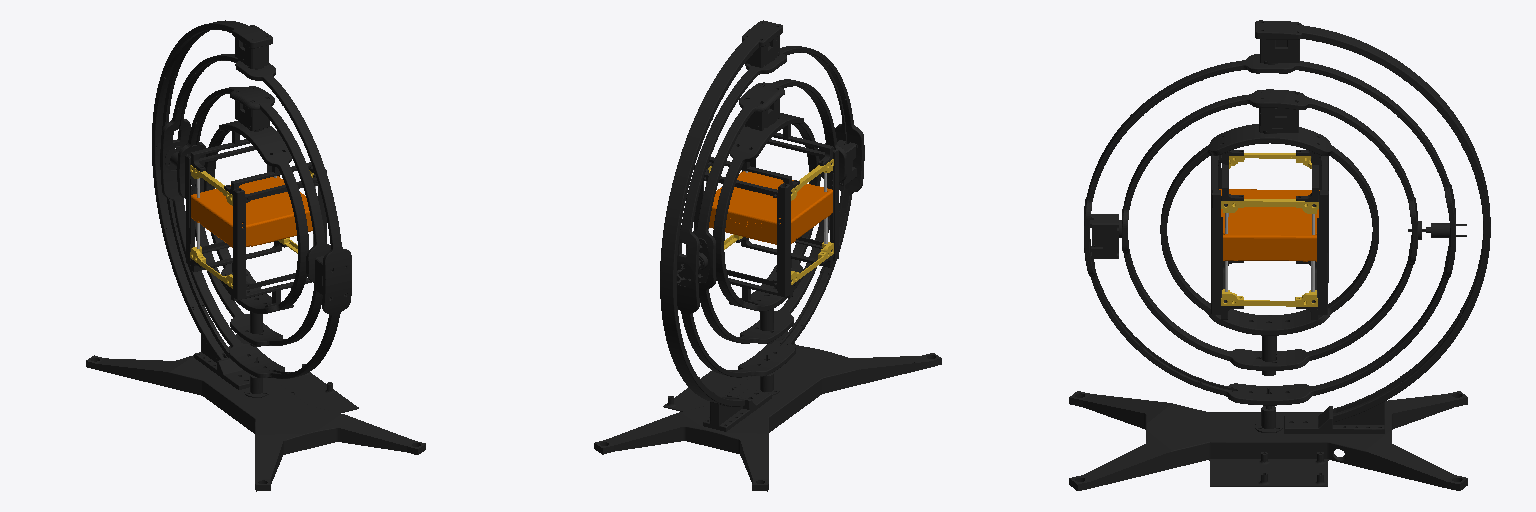
--- Render facts (derived) ---
Views: 3 orthographic renders of the robot side by side, from view 1: azimuth 30°, elevation 25°; view 2: azimuth 150°, elevation 25°; view 3: azimuth 270°, elevation 25°.
Robot: testing_rig — 45 links, 44 joints (3 continuous, 41 fixed); root link base_link; default pose: every joint at zero.
Visible links, largest first — view 1: base_link, ThirdRingFinal_Copy_v2_1, SupportRing_Copy_v1_1, SecondRingFinal_Copy_v2_1, FirstRingFinal_Copy_v2_1, Beacon_bottom_v1_1, 1U_Cubesat_Side_Frame_1_v1_1, 1U_Cubesat_Side_Frame_2_v1_1, CubeSat1UMountingBracket_v1_2, CubeSat1UMountingBracket_v1_1, tip_v1_4_1; view 2: base_link, ThirdRingFinal_Copy_v2_1, SupportRing_Copy_v1_1, SecondRingFinal_Copy_v2_1, Beacon_bottom_v1_1, FirstRingFinal_Copy_v2_1, 1U_Cubesat_Side_Frame_2_v1_1, 1U_Cubesat_Side_Frame_1_v1_1, CubeSat1UMountingBracket_v1_2, CubeSat1UMountingBracket_v1_1, tip_v1_1; view 3: base_link, ThirdRingFinal_Copy_v2_1, SupportRing_Copy_v1_1, SecondRingFinal_Copy_v2_1, FirstRingFinal_Copy_v2_1, Beacon_bottom_v1_1, 1U_Cubesat_Side_Frame_1_v1_1, 1U_Cubesat_Side_Frame_2_v1_1, CubeSat1UMountingBracket_v1_2, 1U_Cubesat_Rib_2_v1_4, 1U_Cubesat_Rib_2_v1_3, motor2_v1__1__1 (+8 smaller).
Link boxes in pixels (x1,y1,x2,y2): base_link: (111,334,400,473); ThirdRingFinal_Copy_v2_1: (160,54,351,378); SupportRing_Copy_v1_1: (152,20,272,389); SecondRingFinal_Copy_v2_1: (177,86,330,345); FirstRingFinal_Copy_v2_1: (204,121,308,313); Beacon_bottom_v1_1: (191,176,312,247); 1U_Cubesat_Side_Frame_1_v1_1: (232,170,326,299); 1U_Cubesat_Side_Frame_2_v1_1: (185,146,279,264); CubeSat1UMountingBracket_v1_2: (191,131,314,194); CubeSat1UMountingBracket_v1_1: (191,241,311,300); tip_v1_4_1: (381,436,425,454); base_link: (620,330,915,471); ThirdRingFinal_Copy_v2_1: (677,46,864,377); SupportRing_Copy_v1_1: (660,20,782,431); SecondRingFinal_Copy_v2_1: (686,79,846,343); Beacon_bottom_v1_1: (709,171,832,244); FirstRingFinal_Copy_v2_1: (713,113,820,311); 1U_Cubesat_Side_Frame_2_v1_1: (694,165,791,296); 1U_Cubesat_Side_Frame_1_v1_1: (742,139,838,260); CubeSat1UMountingBracket_v1_2: (707,125,832,189); CubeSat1UMountingBracket_v1_1: (716,237,833,298); tip_v1_1: (594,435,640,454); base_link: (1106,396,1430,486); ThirdRingFinal_Copy_v2_1: (1084,54,1455,405); SupportRing_Copy_v1_1: (1255,20,1490,433); SecondRingFinal_Copy_v2_1: (1122,89,1417,370); FirstRingFinal_Copy_v2_1: (1160,124,1378,335); Beacon_bottom_v1_1: (1219,189,1319,261); 1U_Cubesat_Side_Frame_1_v1_1: (1211,155,1227,314); 1U_Cubesat_Side_Frame_2_v1_1: (1311,155,1328,314); CubeSat1UMountingBracket_v1_2: (1221,150,1318,201); 1U_Cubesat_Rib_2_v1_4: (1221,289,1317,306); 1U_Cubesat_Rib_2_v1_3: (1221,199,1318,213); motor2_v1__1__1: (1097,214,1113,258).
Bounding box of the posed robot: 0.1887 × 0.3582 × 0.3929 m (x, y, z).
Meshes: 45 distinct files referenced, 45 mesh visuals loaded (45 binary STL).

robot.urdf — testing_rig:
<?xml version="1.0" ?>
<!-- =================================================================================== -->
<!-- |    This document was autogenerated by xacro from [local-path]/ANT61/ANT61_ws/src/testing_rig/testing_rig_description/urdf/testing_rig.xacro | -->
<!-- |    EDITING THIS FILE BY HAND IS NOT RECOMMENDED                                 | -->
<!-- =================================================================================== -->
<robot name="testing_rig">
    <material name="silver">
        <color rgba="0.700 0.700 0.700 1.000" />
    </material>
    <material name="gold">
        <color rgba="0.831 0.686 0.216 1.000" />
    </material>
    <material name="black">
        <color rgba="0.18 0.18 0.18 1.000" />
    </material>
    <material name="orange">
        <color rgba="0.80 0.40 0.00 1.000" />
    </material>
    <transmission name="outer_ring_tran">
        <type>transmission_interface/SimpleTransmission</type>
        <joint name="outer_ring">
            <hardwareInterface>hardware_interface/EffortJointInterface</hardwareInterface>
        </joint>
        <actuator name="outer_ring_actr">
            <hardwareInterface>hardware_interface/EffortJointInterface</hardwareInterface>
            <mechanicalReduction>1</mechanicalReduction>
        </actuator>
    </transmission>
    <transmission name="middle_ring_tran">
        <type>transmission_interface/SimpleTransmission</type>
        <joint name="middle_ring">
            <hardwareInterface>hardware_interface/EffortJointInterface</hardwareInterface>
        </joint>
        <actuator name="middle_ring_actr">
            <hardwareInterface>hardware_interface/EffortJointInterface</hardwareInterface>
            <mechanicalReduction>1</mechanicalReduction>
        </actuator>
    </transmission>
    <transmission name="inner_ring_tran">
        <type>transmission_interface/SimpleTransmission</type>
        <joint name="inner_ring">
            <hardwareInterface>hardware_interface/EffortJointInterface</hardwareInterface>
        </joint>
        <actuator name="inner_ring_actr">
            <hardwareInterface>hardware_interface/EffortJointInterface</hardwareInterface>
            <mechanicalReduction>1</mechanicalReduction>
        </actuator>
    </transmission>
    <!-- <transmission name="Beacon_tran">
        <type>transmission_interface/SimpleTransmission</type>
        <joint name="Beacon">
            <hardwareInterface>hardware_interface/EffortJointInterface</hardwareInterface>
        </joint>
        <actuator name="Beacon_actr">
            <hardwareInterface>hardware_interface/EffortJointInterface</hardwareInterface>
            <mechanicalReduction>1</mechanicalReduction>
        </actuator>
    </transmission> -->
    <gazebo>
        <plugin filename="libgazebo_ros_control.so" name="control" />
        <plugin name="gazebo_ros_control" filename="libgazebo_ros_control.so">
            <robotNamespace>/</robotNamespace>
        </plugin>
    </gazebo>
    <gazebo reference="base_link">
        <material>Gazebo/Black</material>
        <mu1>0.2</mu1>
        <mu2>0.2</mu2>
        <selfCollide>true</selfCollide>
        <gravity>true</gravity>
    </gazebo>
    <gazebo reference="tip_v1_1">
        <material>Gazebo/Black</material>
        <mu1>0.2</mu1>
        <mu2>0.2</mu2>
        <selfCollide>true</selfCollide>
    </gazebo>
    <gazebo reference="tip_v1_2_1">
        <material>Gazebo/Black</material>
        <mu1>0.2</mu1>
        <mu2>0.2</mu2>
        <selfCollide>true</selfCollide>
    </gazebo>
    <gazebo reference="tip_v1_3_1">
        <material>Gazebo/Black</material>
        <mu1>0.2</mu1>
        <mu2>0.2</mu2>
        <selfCollide>true</selfCollide>
    </gazebo>
    <gazebo reference="tip_v1_4_1">
        <material>Gazebo/Black</material>
        <mu1>0.2</mu1>
        <mu2>0.2</mu2>
        <selfCollide>true</selfCollide>
    </gazebo>
    <gazebo reference="base_tip_v1_1">
        <material>Gazebo/Black</material>
        <mu1>0.2</mu1>
        <mu2>0.2</mu2>
        <selfCollide>true</selfCollide>
    </gazebo>
    <gazebo reference="SupportRing_Copy_v1_1">
        <material>Gazebo/Black</material>
        <mu1>0.2</mu1>
        <mu2>0.2</mu2>
        <selfCollide>true</selfCollide>
    </gazebo>
    <gazebo reference="motor1_v1_1">
        <material>Gazebo/Black</material>
        <mu1>0.2</mu1>
        <mu2>0.2</mu2>
        <selfCollide>true</selfCollide>
    </gazebo>
    <gazebo reference="motor2_v1_1">
        <material>Gazebo/Black</material>
        <mu1>0.2</mu1>
        <mu2>0.2</mu2>
        <selfCollide>true</selfCollide>
    </gazebo>
    <gazebo reference="motor3_v1_1">
        <material>Gazebo/Black</material>
        <mu1>0.2</mu1>
        <mu2>0.2</mu2>
        <selfCollide>true</selfCollide>
    </gazebo>
    <gazebo reference="motor4_v1_1">
        <material>Gazebo/Black</material>
        <mu1>0.2</mu1>
        <mu2>0.2</mu2>
        <selfCollide>true</selfCollide>
    </gazebo>
    <gazebo reference="ThirdRingFinal_Copy_v2_1">
        <material>Gazebo/Black</material>
        <mu1>0.2</mu1>
        <mu2>0.2</mu2>
        <selfCollide>true</selfCollide>
    </gazebo>
    <gazebo reference="outer_ring_ball_bearing_v1_1">
        <material>Gazebo/Black</material>
        <mu1>0.2</mu1>
        <mu2>0.2</mu2>
        <selfCollide>true</selfCollide>
    </gazebo>
    <gazebo reference="outer_ring_tip_v1_1">
        <material>Gazebo/Black</material>
        <mu1>0.2</mu1>
        <mu2>0.2</mu2>
        <selfCollide>true</selfCollide>
    </gazebo>
    <gazebo reference="motor1_v1__1__1">
        <material>Gazebo/Black</material>
        <mu1>0.2</mu1>
        <mu2>0.2</mu2>
        <selfCollide>true</selfCollide>
    </gazebo>
    <gazebo reference="motor2_v1__1__1">
        <material>Gazebo/Black</material>
        <mu1>0.2</mu1>
        <mu2>0.2</mu2>
        <selfCollide>true</selfCollide>
    </gazebo>
    <gazebo reference="motor3_v1__1__1">
        <material>Gazebo/Black</material>
        <mu1>0.2</mu1>
        <mu2>0.2</mu2>
        <selfCollide>true</selfCollide>
    </gazebo>
    <gazebo reference="motor4_v1__1__1">
        <material>Gazebo/Black</material>
        <mu1>0.2</mu1>
        <mu2>0.2</mu2>
        <selfCollide>true</selfCollide>
    </gazebo>
    <gazebo reference="SecondRingFinal_Copy_v2_1">
        <material>Gazebo/Black</material>
        <mu1>0.2</mu1>
        <mu2>0.2</mu2>
        <selfCollide>true</selfCollide>
    </gazebo>
    <gazebo reference="outer_ring_ball_bearing_v1__1__1">
        <material>Gazebo/Black</material>
        <mu1>0.2</mu1>
        <mu2>0.2</mu2>
        <selfCollide>true</selfCollide>
    </gazebo>
    <gazebo reference="motor1_v1__2__1">
        <material>Gazebo/Black</material>
        <mu1>0.2</mu1>
        <mu2>0.2</mu2>
        <selfCollide>true</selfCollide>
    </gazebo>
    <gazebo reference="motor2_v1__2__1">
        <material>Gazebo/Black</material>
        <mu1>0.2</mu1>
        <mu2>0.2</mu2>
        <selfCollide>true</selfCollide>
    </gazebo>
    <gazebo reference="motor3_v1__2__1">
        <material>Gazebo/Black</material>
        <mu1>0.2</mu1>
        <mu2>0.2</mu2>
        <selfCollide>true</selfCollide>
    </gazebo>
    <gazebo reference="motor4_v1__2__1">
        <material>Gazebo/Black</material>
        <mu1>0.2</mu1>
        <mu2>0.2</mu2>
        <selfCollide>true</selfCollide>
    </gazebo>
    <gazebo reference="FirstRingFinal_Copy_v2_1">
        <material>Gazebo/Black</material>
        <mu1>0.2</mu1>
        <mu2>0.2</mu2>
        <selfCollide>true</selfCollide>
    </gazebo>
    <gazebo reference="inner_ring_ball_bearing_v1_1">
        <material>Gazebo/Black</material>
        <mu1>0.2</mu1>
        <mu2>0.2</mu2>
        <selfCollide>true</selfCollide>
    </gazebo>
    <gazebo reference="inner_ring_pin_v1_1">
        <material>Gazebo/Black</material>
        <mu1>0.2</mu1>
        <mu2>0.2</mu2>
        <selfCollide>true</selfCollide>
    </gazebo>
    <gazebo reference="Bracket-Ring-Mount_v1_1">
        <material>Gazebo/Black</material>
        <mu1>0.2</mu1>
        <mu2>0.2</mu2>
        <selfCollide>true</selfCollide>
    </gazebo>
    <gazebo reference="CubeSat1UMountingBracket_v1_1">
        <material>Gazebo/Black</material>
        <mu1>0.2</mu1>
        <mu2>0.2</mu2>
        <selfCollide>true</selfCollide>
    </gazebo>
    <gazebo reference="1U_Cubesat_Rib_2_v1_1">
        <material>Gazebo/Gold</material>
        <mu1>0.2</mu1>
        <mu2>0.2</mu2>
        <selfCollide>true</selfCollide>
    </gazebo>
    <gazebo reference="1U_Cubesat_Side_Frame_2_v1_1">
        <material>Gazebo/Black</material>
        <mu1>0.2</mu1>
        <mu2>0.2</mu2>
        <selfCollide>true</selfCollide>
    </gazebo>
    <gazebo reference="1U_Cubesat_Side_Frame_1_v1_1">
        <material>Gazebo/Black</material>
        <mu1>0.2</mu1>
        <mu2>0.2</mu2>
        <selfCollide>true</selfCollide>
    </gazebo>
    <gazebo reference="1U_Cubesat_Rib_2_v1_2">
        <material>Gazebo/Gold</material>
        <mu1>0.2</mu1>
        <mu2>0.2</mu2>
        <selfCollide>true</selfCollide>
    </gazebo>
    <gazebo reference="rod_v1_1">
        <material>Gazebo/Silver</material>
        <mu1>0.2</mu1>
        <mu2>0.2</mu2>
        <selfCollide>true</selfCollide>
    </gazebo>
    <gazebo reference="rod_v1__1__1">
        <material>Gazebo/Silver</material>
        <mu1>0.2</mu1>
        <mu2>0.2</mu2>
        <selfCollide>true</selfCollide>
    </gazebo>
    <gazebo reference="Beacon_bottom_v1_1">
        <material>Gazebo/Orange</material>
        <mu1>0.2</mu1>
        <mu2>0.2</mu2>
        <selfCollide>true</selfCollide>
    </gazebo>
    <gazebo reference="Beacon_top_v1_1">
        <material>Gazebo/Orange</material>
        <mu1>0.2</mu1>
        <mu2>0.2</mu2>
        <selfCollide>true</selfCollide>
    </gazebo>
    <gazebo reference="1U_Cubesat_Rib_2_v1_3">
        <material>Gazebo/Gold</material>
        <mu1>0.2</mu1>
        <mu2>0.2</mu2>
        <selfCollide>true</selfCollide>
    </gazebo>
    <gazebo reference="1U_Cubesat_Rib_2_v1_4">
        <material>Gazebo/Gold</material>
        <mu1>0.2</mu1>
        <mu2>0.2</mu2>
        <selfCollide>true</selfCollide>
    </gazebo>
    <gazebo reference="rod_v1__1__2">
        <material>Gazebo/Silver</material>
        <mu1>0.2</mu1>
        <mu2>0.2</mu2>
        <selfCollide>true</selfCollide>
    </gazebo>
    <gazebo reference="rod_v1__1__3">
        <material>Gazebo/Silver</material>
        <mu1>0.2</mu1>
        <mu2>0.2</mu2>
        <selfCollide>true</selfCollide>
    </gazebo>
    <gazebo reference="Bracket-Ring-Mount_v1_2">
        <material>Gazebo/Black</material>
        <mu1>0.2</mu1>
        <mu2>0.2</mu2>
        <selfCollide>true</selfCollide>
    </gazebo>
    <gazebo reference="CubeSat1UMountingBracket_v1_2">
        <material>Gazebo/Black</material>
        <mu1>0.2</mu1>
        <mu2>0.2</mu2>
        <selfCollide>true</selfCollide>
    </gazebo>
    <gazebo reference="Bracket-Ring-Mount_v1_3">
        <material>Gazebo/Black</material>
        <mu1>0.2</mu1>
        <mu2>0.2</mu2>
        <selfCollide>true</selfCollide>
    </gazebo>
    <gazebo reference="Bracket-Ring-Mount_v1_4">
        <material>Gazebo/Black</material>
        <mu1>0.2</mu1>
        <mu2>0.2</mu2>
        <selfCollide>true</selfCollide>
    </gazebo>
    <link name="base_link">
        <inertial>
            <origin rpy="0 0 0" xyz="0.002283143011506284 0.000145957678142432 0.011736199126999337" />
            <mass value="1.173114863642464" />
            <inertia ixx="0.009424" ixy="3e-06" ixz="2.2e-05" iyy="0.002095" iyz="1e-06" izz="0.011456" />
        </inertial>
        <visual>
            <origin rpy="0 0 0" xyz="0 0 0" />
            <geometry>
                <mesh filename="package://testing_rig_description/meshes/base_link.stl" scale="0.001 0.001 0.001" />
            </geometry>
            <material name="black" />
        </visual>
        <collision>
            <origin rpy="0 0 0" xyz="0 0 0" />
            <geometry>
                <mesh filename="package://testing_rig_description/meshes/base_link.stl" scale="0.001 0.001 0.001" />
            </geometry>
        </collision>
    </link>
    <link name="tip_v1_1">
        <inertial>
            <origin rpy="0 0 0" xyz="0.006915713727585343 0.010568225086676403 -0.0018349509833612667" />
            <mass value="0.028814716664613254" />
            <inertia ixx="2e-06" ixy="-1e-06" ixz="0.0" iyy="2e-06" iyz="0.0" izz="4e-06" />
        </inertial>
        <visual>
            <origin rpy="0 0 0" xyz="-0.069481 -0.138118 -0.008686" />
            <geometry>
                <mesh filename="package://testing_rig_description/meshes/tip_v1_1.stl" scale="0.001 0.001 0.001" />
            </geometry>
            <material name="black" />
        </visual>
        <collision>
            <origin rpy="0 0 0" xyz="-0.069481 -0.138118 -0.008686" />
            <geometry>
                <mesh filename="package://testing_rig_description/meshes/tip_v1_1.stl" scale="0.001 0.001 0.001" />
            </geometry>
        </collision>
    </link>
    <link name="tip_v1_2_1">
        <inertial>
            <origin rpy="0 0 0" xyz="-0.006915713727662615 0.010568225086541566 -0.0018349509833612667" />
            <mass value="0.02881471666461372" />
            <inertia ixx="2e-06" ixy="1e-06" ixz="-0.0" iyy="2e-06" iyz="0.0" izz="4e-06" />
        </inertial>
        <visual>
            <origin rpy="0 0 0" xyz="0.069481 -0.138118 -0.008686" />
            <geometry>
                <mesh filename="package://testing_rig_description/meshes/tip_v1_2_1.stl" scale="0.001 0.001 0.001" />
            </geometry>
            <material name="black" />
        </visual>
        <collision>
            <origin rpy="0 0 0" xyz="0.069481 -0.138118 -0.008686" />
            <geometry>
                <mesh filename="package://testing_rig_description/meshes/tip_v1_2_1.stl" scale="0.001 0.001 0.001" />
            </geometry>
        </collision>
    </link>
    <link name="tip_v1_3_1">
        <inertial>
            <origin rpy="0 0 0" xyz="-0.006915713727585343 -0.010568225086676403 -0.0018349509833612667" />
            <mass value="0.028814716664613254" />
            <inertia ixx="2e-06" ixy="-1e-06" ixz="-0.0" iyy="2e-06" iyz="-0.0" izz="4e-06" />
        </inertial>
        <visual>
            <origin rpy="0 0 0" xyz="0.069481 0.138118 -0.008686" />
            <geometry>
                <mesh filename="package://testing_rig_description/meshes/tip_v1_3_1.stl" scale="0.001 0.001 0.001" />
            </geometry>
            <material name="black" />
        </visual>
        <collision>
            <origin rpy="0 0 0" xyz="0.069481 0.138118 -0.008686" />
            <geometry>
                <mesh filename="package://testing_rig_description/meshes/tip_v1_3_1.stl" scale="0.001 0.001 0.001" />
            </geometry>
        </collision>
    </link>
    <link name="tip_v1_4_1">
        <inertial>
            <origin rpy="0 0 0" xyz="0.006915713727662615 -0.010568225086541566 -0.0018349509833612667" />
            <mass value="0.02881471666461372" />
            <inertia ixx="2e-06" ixy="1e-06" ixz="0.0" iyy="2e-06" iyz="-0.0" izz="4e-06" />
        </inertial>
        <visual>
            <origin rpy="0 0 0" xyz="-0.069481 0.138118 -0.008686" />
            <geometry>
                <mesh filename="package://testing_rig_description/meshes/tip_v1_4_1.stl" scale="0.001 0.001 0.001" />
            </geometry>
            <material name="black" />
        </visual>
        <collision>
            <origin rpy="0 0 0" xyz="-0.069481 0.138118 -0.008686" />
            <geometry>
                <mesh filename="package://testing_rig_description/meshes/tip_v1_4_1.stl" scale="0.001 0.001 0.001" />
            </geometry>
        </collision>
    </link>
    <link name="base_tip_v1_1">
        <inertial>
            <origin rpy="0 0 0" xyz="-0.004497696402113562 0.007793589314646079 0.00837453733530684" />
            <mass value="0.021513623215923098" />
            <inertia ixx="1e-06" ixy="-0.0" ixz="-0.0" iyy="1e-06" iyz="0.0" izz="1e-06" />
        </inertial>
        <visual>
            <origin rpy="0 0 0" xyz="-0.00545 0.007794 -0.019499" />
            <geometry>
                <mesh filename="package://testing_rig_description/meshes/base_tip_v1_1.stl" scale="0.001 0.001 0.001" />
            </geometry>
            <material name="black" />
        </visual>
        <collision>
            <origin rpy="0 0 0" xyz="-0.00545 0.007794 -0.019499" />
            <geometry>
                <mesh filename="package://testing_rig_description/meshes/base_tip_v1_1.stl" scale="0.001 0.001 0.001" />
            </geometry>
        </collision>
    </link>
    <link name="SupportRing_Copy_v1_1">
        <inertial>
            <origin rpy="0 0 0" xyz="-8.350447269018981e-08 0.06702959184613164 0.15202181931555206" />
            <mass value="0.3960382333506536" />
            <inertia ixx="0.009724" ixy="-0.0" ixz="0.0" iyy="0.008417" iyz="-5.4e-05" izz="0.001334" />
        </inertial>
        <visual>
            <origin rpy="0 0 0" xyz="-0.00095 -0.03155 -0.019499" />
            <geometry>
                <mesh filename="package://testing_rig_description/meshes/SupportRing_Copy_v1_1.stl" scale="0.001 0.001 0.001" />
            </geometry>
            <material name="black" />
        </visual>
        <collision>
            <origin rpy="0 0 0" xyz="-0.00095 -0.03155 -0.019499" />
            <geometry>
                <mesh filename="package://testing_rig_description/meshes/SupportRing_Copy_v1_1.stl" scale="0.001 0.001 0.001" />
            </geometry>
        </collision>
    </link>
    <link name="motor1_v1_1">
        <inertial>
            <origin rpy="0 0 0" xyz="0.008014698797877466 0.015182827303640437 -0.0025432558533467486" />
            <mass value="0.002470366825195182" />
            <inertia ixx="0.0" ixy="-0.0" ixz="0.0" iyy="0.0" iyz="-0.0" izz="0.0" />
        </inertial>
        <visual>
            <origin rpy="0 0 0" xyz="0.007037 0.005599 -0.38914" />
            <geometry>
                <mesh filename="package://testing_rig_description/meshes/motor1_v1_1.stl" scale="0.001 0.001 0.001" />
            </geometry>
            <material name="black" />
        </visual>
        <collision>
            <origin rpy="0 0 0" xyz="0.007037 0.005599 -0.38914" />
            <geometry>
                <mesh filename="package://testing_rig_description/meshes/motor1_v1_1.stl" scale="0.001 0.001 0.001" />
            </geometry>
        </collision>
    </link>
    <link name="motor2_v1_1">
        <inertial>
            <origin rpy="0 0 0" xyz="0.008010560901146524 0.014833713929799973 -0.00785765219931972" />
            <mass value="0.01562694373185061" />
            <inertia ixx="2e-06" ixy="-0.0" ixz="-0.0" iyy="1e-06" iyz="0.0" izz="2e-06" />
        </inertial>
        <visual>
            <origin rpy="0 0 0" xyz="0.007037 0.005622 -0.38464" />
            <geometry>
                <mesh filename="package://testing_rig_description/meshes/motor2_v1_1.stl" scale="0.001 0.001 0.001" />
            </geometry>
            <material name="black" />
        </visual>
        <collision>
            <origin rpy="0 0 0" xyz="0.007037 0.005622 -0.38464" />
            <geometry>
                <mesh filename="package://testing_rig_description/meshes/motor2_v1_1.stl" scale="0.001 0.001 0.001" />
            </geometry>
        </collision>
    </link>
    <link name="motor3_v1_1">
        <inertial>
            <origin rpy="0 0 0" xyz="0.008032346000044807 0.01557482831062404 -0.0017498962219740233" />
            <mass value="0.001972071341929661" />
            <inertia ixx="0.0" ixy="-0.0" ixz="0.0" iyy="0.0" iyz="0.0" izz="0.0" />
        </inertial>
        <visual>
            <origin rpy="0 0 0" xyz="0.007037 0.005701 -0.36964" />
            <geometry>
                <mesh filename="package://testing_rig_description/meshes/motor3_v1_1.stl" scale="0.001 0.001 0.001" />
            </geometry>
            <material name="black" />
        </visual>
        <collision>
            <origin rpy="0 0 0" xyz="0.007037 0.005701 -0.36964" />
            <geometry>
                <mesh filename="package://testing_rig_description/meshes/motor3_v1_1.stl" scale="0.001 0.001 0.001" />
            </geometry>
        </collision>
    </link>
    <link name="motor4_v1_1">
        <inertial>
            <origin rpy="0 0 0" xyz="-4.967728888169692e-07 -9.228778182680418e-06 -0.0010983174824755748" />
            <mass value="0.0005495044917146475" />
            <inertia ixx="0.0" ixy="0.0" ixz="-0.0" iyy="0.0" iyz="0.0" izz="0.0" />
        </inertial>
        <visual>
            <origin rpy="0 0 0" xyz="-0.000963 -0.00178 -0.366101" />
            <geometry>
                <mesh filename="package://testing_rig_description/meshes/motor4_v1_1.stl" scale="0.001 0.001 0.001" />
            </geometry>
            <material name="black" />
        </visual>
        <collision>
            <origin rpy="0 0 0" xyz="-0.000963 -0.00178 -0.366101" />
            <geometry>
                <mesh filename="package://testing_rig_description/meshes/motor4_v1_1.stl" scale="0.001 0.001 0.001" />
            </geometry>
        </collision>
    </link>
    <link name="ThirdRingFinal_Copy_v2_1">
        <inertial>
            <origin rpy="0 0 0" xyz="-3.193153753389968e-05 0.001860335754553891 -0.16595994878561365" />
            <mass value="0.4802307720549796" />
            <inertia ixx="0.011664" ixy="-0.0" ixz="2e-06" iyy="0.005481" iyz="9.2e-05" izz="0.006226" />
        </inertial>
        <visual>
            <origin rpy="0 0 0" xyz="-0.000963 -0.001765 -0.363201" />
            <geometry>
                <mesh filename="package://testing_rig_description/meshes/ThirdRingFinal_Copy_v2_1.stl" scale="0.001 0.001 0.001" />
            </geometry>
            <material name="black" />
        </visual>
        <collision>
            <origin rpy="0 0 0" xyz="-0.000963 -0.001765 -0.363201" />
            <geometry>
                <mesh filename="package://testing_rig_description/meshes/ThirdRingFinal_Copy_v2_1.stl" scale="0.001 0.001 0.001" />
            </geometry>
        </collision>
    </link>
    <link name="outer_ring_ball_bearing_v1_1">
        <inertial>
            <origin rpy="0 0 0" xyz="-4.967483623370553e-07 -1.2198596372398263e-05 -0.0022771298909455423" />
            <mass value="0.013135627183672435" />
            <inertia ixx="1e-06" ixy="-0.0" ixz="-0.0" iyy="0.0" iyz="0.0" izz="1e-06" />
        </inertial>
        <visual>
            <origin rpy="0 0 0" xyz="-0.000963 -0.000115 -0.04978" />
            <geometry>
                <mesh filename="package://testing_rig_description/meshes/outer_ring_ball_bearing_v1_1.stl" scale="0.001 0.001 0.001" />
            </geometry>
            <material name="black" />
        </visual>
        <collision>
            <origin rpy="0 0 0" xyz="-0.000963 -0.000115 -0.04978" />
            <geometry>
                <mesh filename="package://testing_rig_description/meshes/outer_ring_ball_bearing_v1_1.stl" scale="0.001 0.001 0.001" />
            </geometry>
        </collision>
    </link>
    <link name="outer_ring_tip_v1_1">
        <inertial>
            <origin rpy="0 0 0" xyz="-0.0077949074581845895 -0.008350603547906094 0.004541322355146704" />
            <mass value="0.021513623215923098" />
            <inertia ixx="1e-06" ixy="-0.0" ixz="0.0" iyy="1e-06" iyz="0.0" izz="1e-06" />
        </inertial>
        <visual>
            <origin rpy="0 0 0" xyz="-0.008757 -0.155832 -0.199888" />
            <geometry>
                <mesh filename="package://testing_rig_description/meshes/outer_ring_tip_v1_1.stl" scale="0.001 0.001 0.001" />
            </geometry>
            <material name="black" />
        </visual>
        <collision>
            <origin rpy="0 0 0" xyz="-0.008757 -0.155832 -0.199888" />
            <geometry>
                <mesh filename="package://testing_rig_description/meshes/outer_ring_tip_v1_1.stl" scale="0.001 0.001 0.001" />
            </geometry>
        </collision>
    </link>
    <link name="motor1_v1__1__1">
        <inertial>
            <origin rpy="0 0 0" xyz="0.007984307760769185 0.002383766895279249 -0.015208065367221135" />
            <mass value="0.002470366825195182" />
            <inertia ixx="0.0" ixy="0.0" ixz="-0.0" iyy="0.0" iyz="-0.0" izz="0.0" />
        </inertial>
        <visual>
            <origin rpy="0 0 0" xyz="0.007037 0.150482 -0.2135" />
            <geometry>
                <mesh filename="package://testing_rig_description/meshes/motor1_v1__1__1.stl" scale="0.001 0.001 0.001" />
            </geometry>
            <material name="black" />
        </visual>
        <collision>
            <origin rpy="0 0 0" xyz="0.007037 0.150482 -0.2135" />
            <geometry>
                <mesh filename="package://testing_rig_description/meshes/motor1_v1__1__1.stl" scale="0.001 0.001 0.001" />
            </geometry>
        </collision>
    </link>
    <link name="motor2_v1__1__1">
        <inertial>
            <origin rpy="0 0 0" xyz="0.007988445657500181 0.0077015371992914805 -0.014916308494750091" />
            <mass value="0.01562694373185061" />
            <inertia ixx="2e-06" ixy="-0.0" ixz="-0.0" iyy="2e-06" iyz="-0.0" izz="1e-06" />
        </inertial>
        <visual>
            <origin rpy="0 0 0" xyz="0.007037 0.145982 -0.213477" />
            <geometry>
                <mesh filename="package://testing_rig_description/meshes/motor2_v1__1__1.stl" scale="0.001 0.001 0.001" />
            </geometry>
            <material name="black" />
        </visual>
        <collision>
            <origin rpy="0 0 0" xyz="0.007037 0.145982 -0.213477" />
            <geometry>
                <mesh filename="package://testing_rig_description/meshes/motor2_v1__1__1.stl" scale="0.001 0.001 0.001" />
            </geometry>
        </collision>
    </link>
    <link name="motor3_v1__1__1">
        <inertial>
            <origin rpy="0 0 0" xyz="0.007966660558601882 0.0015863169022420909 -0.015593012697308839" />
            <mass value="0.001972071341929661" />
            <inertia ixx="0.0" ixy="0.0" ixz="-0.0" iyy="0.0" iyz="-0.0" izz="0.0" />
        </inertial>
        <visual>
            <origin rpy="0 0 0" xyz="0.007037 0.130982 -0.213398" />
            <geometry>
                <mesh filename="package://testing_rig_description/meshes/motor3_v1__1__1.stl" scale="0.001 0.001 0.001" />
            </geometry>
            <material name="black" />
        </visual>
        <collision>
            <origin rpy="0 0 0" xyz="0.007037 0.130982 -0.213398" />
            <geometry>
                <mesh filename="package://testing_rig_description/meshes/motor3_v1__1__1.stl" scale="0.001 0.001 0.001" />
            </geometry>
        </collision>
    </link>
    <link name="motor4_v1__1__1">
        <inertial>
            <origin rpy="0 0 0" xyz="-4.966685807063177e-07 0.0010978578364332636 -8.917837016758634e-06" />
            <mass value="0.0005495044917146475" />
            <inertia ixx="0.0" ixy="0.0" ixz="0.0" iyy="0.0" iyz="-0.0" izz="0.0" />
        </inertial>
        <visual>
            <origin rpy="0 0 0" xyz="-0.000963 0.127521 -0.205879" />
            <geometry>
                <mesh filename="package://testing_rig_description/meshes/motor4_v1__1__1.stl" scale="0.001 0.001 0.001" />
            </geometry>
            <material name="black" />
        </visual>
        <collision>
            <origin rpy="0 0 0" xyz="-0.000963 0.127521 -0.205879" />
            <geometry>
                <mesh filename="package://testing_rig_description/meshes/motor4_v1__1__1.stl" scale="0.001 0.001 0.001" />
            </geometry>
        </collision>
    </link>
    <link name="SecondRingFinal_Copy_v2_1">
        <inertial>
            <origin rpy="0 0 0" xyz="5.0953962492784e-05 0.12264301881889256 -0.0034166016322534076" />
            <mass value="0.40091267518933105" />
            <inertia ixx="0.006113" ixy="-0.0" ixz="-3e-06" iyy="0.003236" iyz="4.1e-05" izz="0.002909" />
        </inertial>
        <visual>
            <origin rpy="0 0 0" xyz="-0.000963 0.124621 -0.205864" />
            <geometry>
                <mesh filename="package://testing_rig_description/meshes/SecondRingFinal_Copy_v2_1.stl" scale="0.001 0.001 0.001" />
            </geometry>
            <material name="black" />
        </visual>
        <collision>
            <origin rpy="0 0 0" xyz="-0.000963 0.124621 -0.205864" />
            <geometry>
                <mesh filename="package://testing_rig_description/meshes/SecondRingFinal_Copy_v2_1.stl" scale="0.001 0.001 0.001" />
            </geometry>
        </collision>
    </link>
    <link name="outer_ring_ball_bearing_v1__1__1">
        <inertial>
            <origin rpy="0 0 0" xyz="-4.96692990938942e-07 0.0022775762104285113 -1.1715936935219329e-05" />
            <mass value="0.013135627183672435" />
            <inertia ixx="1e-06" ixy="-0.0" ixz="-0.0" iyy="1e-06" iyz="-0.0" izz="0.0" />
        </inertial>
        <visual>
            <origin rpy="0 0 0" xyz="-0.000963 -0.123425 -0.204558" />
            <geometry>
                <mesh filename="package://testing_rig_description/meshes/outer_ring_ball_bearing_v1__1__1.stl" scale="0.001 0.001 0.001" />
            </geometry>
            <material name="black" />
        </visual>
        <collision>
            <origin rpy="0 0 0" xyz="-0.000963 -0.123425 -0.204558" />
            <geometry>
                <mesh filename="package://testing_rig_description/meshes/outer_ring_ball_bearing_v1__1__1.stl" scale="0.001 0.001 0.001" />
            </geometry>
        </collision>
    </link>
    <link name="motor1_v1__2__1">
        <inertial>
            <origin rpy="0 0 0" xyz="0.008014698797877504 0.015182559733266876 -0.0025433263319444843" />
            <mass value="0.002470366825195182" />
            <inertia ixx="0.0" ixy="-0.0" ixz="0.0" iyy="0.0" iyz="-0.0" izz="0.0" />
        </inertial>
        <visual>
            <origin rpy="0 0 0" xyz="0.007037 0.005999 -0.323786" />
            <geometry>
                <mesh filename="package://testing_rig_description/meshes/motor1_v1__2__1.stl" scale="0.001 0.001 0.001" />
            </geometry>
            <material name="black" />
        </visual>
        <collision>
            <origin rpy="0 0 0" xyz="0.007037 0.005999 -0.323786" />
            <geometry>
                <mesh filename="package://testing_rig_description/meshes/motor1_v1__2__1.stl" scale="0.001 0.001 0.001" />
            </geometry>
        </collision>
    </link>
    <link name="motor2_v1__2__1">
        <inertial>
            <origin rpy="0 0 0" xyz="0.008010560901146529 0.014834446359426358 -0.007857722677917567" />
            <mass value="0.01562694373185061" />
            <inertia ixx="2e-06" ixy="-0.0" ixz="-0.0" iyy="1e-06" iyz="0.0" izz="2e-06" />
        </inertial>
        <visual>
            <origin rpy="0 0 0" xyz="0.007037 0.006023 -0.319286" />
            <geometry>
                <mesh filename="package://testing_rig_description/meshes/motor2_v1__2__1.stl" scale="0.001 0.001 0.001" />
            </geometry>
            <material name="black" />
        </visual>
        <collision>
            <origin rpy="0 0 0" xyz="0.007037 0.006023 -0.319286" />
            <geometry>
                <mesh filename="package://testing_rig_description/meshes/motor2_v1__2__1.stl" scale="0.001 0.001 0.001" />
            </geometry>
        </collision>
    </link>
    <link name="motor3_v1__2__1">
        <inertial>
            <origin rpy="0 0 0" xyz="0.008032346000044833 0.01557556074025046 -0.0017499667005719255" />
            <mass value="0.001972071341929661" />
            <inertia ixx="0.0" ixy="-0.0" ixz="0.0" iyy="0.0" iyz="0.0" izz="0.0" />
        </inertial>
        <visual>
            <origin rpy="0 0 0" xyz="0.007037 0.006102 -0.304286" />
            <geometry>
                <mesh filename="package://testing_rig_description/meshes/motor3_v1__2__1.stl" scale="0.001 0.001 0.001" />
            </geometry>
            <material name="black" />
        </visual>
        <collision>
            <origin rpy="0 0 0" xyz="0.007037 0.006102 -0.304286" />
            <geometry>
                <mesh filename="package://testing_rig_description/meshes/motor3_v1__2__1.stl" scale="0.001 0.001 0.001" />
            </geometry>
        </collision>
    </link>
    <link name="motor4_v1__2__1">
        <inertial>
            <origin rpy="0 0 0" xyz="-4.967728887887799e-07 -9.496348556266429e-06 -0.001098387961073366" />
            <mass value="0.0005495044917146475" />
            <inertia ixx="0.0" ixy="0.0" ixz="-0.0" iyy="0.0" iyz="0.0" izz="0.0" />
        </inertial>
        <visual>
            <origin rpy="0 0 0" xyz="-0.000963 -0.00138 -0.300747" />
            <geometry>
                <mesh filename="package://testing_rig_description/meshes/motor4_v1__2__1.stl" scale="0.001 0.001 0.001" />
            </geometry>
            <material name="black" />
        </visual>
        <collision>
            <origin rpy="0 0 0" xyz="-0.000963 -0.00138 -0.300747" />
            <geometry>
                <mesh filename="package://testing_rig_description/meshes/motor4_v1__2__1.stl" scale="0.001 0.001 0.001" />
            </geometry>
        </collision>
    </link>
    <link name="FirstRingFinal_Copy_v2_1">
        <inertial>
            <origin rpy="0 0 0" xyz="-4.968390760245935e-07 -0.00046852894593677375 -0.0889142372561941" />
            <mass value="0.40633348225597904" />
            <inertia ixx="0.003302" ixy="-0.0" ixz="-0.0" iyy="0.002161" iyz="-5e-06" izz="0.001182" />
        </inertial>
        <visual>
            <origin rpy="0 0 0" xyz="-0.000963 -0.001365 -0.297847" />
            <geometry>
                <mesh filename="package://testing_rig_description/meshes/FirstRingFinal_Copy_v2_1.stl" scale="0.001 0.001 0.001" />
            </geometry>
            <material name="black" />
        </visual>
        <collision>
            <origin rpy="0 0 0" xyz="-0.000963 -0.001365 -0.297847" />
            <geometry>
                <mesh filename="package://testing_rig_description/meshes/FirstRingFinal_Copy_v2_1.stl" scale="0.001 0.001 0.001" />
            </geometry>
        </collision>
    </link>
    <link name="inner_ring_ball_bearing_v1_1">
        <inertial>
            <origin rpy="0 0 0" xyz="-4.967483622814357e-07 -1.1841621000433541e-05 -0.0022777998152183204" />
            <mass value="0.013135627183672435" />
            <inertia ixx="1e-06" ixy="-0.0" ixz="-0.0" iyy="0.0" iyz="0.0" izz="1e-06" />
        </inertial>
        <visual>
            <origin rpy="0 0 0" xyz="-0.000963 -0.000406 -0.115798" />
            <geometry>
                <mesh filename="package://testing_rig_description/meshes/inner_ring_ball_bearing_v1_1.stl" scale="0.001 0.001 0.001" />
            </geometry>
            <material name="black" />
        </visual>
        <collision>
            <origin rpy="0 0 0" xyz="-0.000963 -0.000406 -0.115798" />
            <geometry>
                <mesh filename="package://testing_rig_description/meshes/inner_ring_ball_bearing_v1_1.stl" scale="0.001 0.001 0.001" />
            </geometry>
        </collision>
    </link>
    <link name="inner_ring_pin_v1_1">
        <inertial>
            <origin rpy="0 0 0" xyz="-0.015962488766863712 0.00047835012240045533 0.011554971108466872" />
            <mass value="0.05723159280409613" />
            <inertia ixx="1.3e-05" ixy="-0.0" ixz="0.0" iyy="1.3e-05" iyz="-0.0" izz="3e-06" />
        </inertial>
        <visual>
            <origin rpy="0 0 0" xyz="-0.016925 0.000161 -0.087365" />
            <geometry>
                <mesh filename="package://testing_rig_description/meshes/inner_ring_pin_v1_1.stl" scale="0.001 0.001 0.001" />
            </geometry>
            <material name="black" />
        </visual>
        <collision>
            <origin rpy="0 0 0" xyz="-0.016925 0.000161 -0.087365" />
            <geometry>
                <mesh filename="package://testing_rig_description/meshes/inner_ring_pin_v1_1.stl" scale="0.001 0.001 0.001" />
            </geometry>
        </collision>
    </link>
    <link name="Bracket-Ring-Mount_v1_1">
        <inertial>
            <origin rpy="0 0 0" xyz="-0.007000496346470639 -0.00024406993603380556 0.0066089485500640255" />
            <mass value="0.006460384548743213" />
            <inertia ixx="0.0" ixy="-0.0" ixz="0.0" iyy="0.0" iyz="-0.0" izz="0.0" />
        </inertial>
        <visual>
            <origin rpy="0 0 0" xyz="-0.007963 -0.03908 -0.126789" />
            <geometry>
                <mesh filename="package://testing_rig_description/meshes/Bracket-Ring-Mount_v1_1.stl" scale="0.001 0.001 0.001" />
            </geometry>
            <material name="black" />
        </visual>
        <collision>
            <origin rpy="0 0 0" xyz="-0.007963 -0.03908 -0.126789" />
            <geometry>
                <mesh filename="package://testing_rig_description/meshes/Bracket-Ring-Mount_v1_1.stl" scale="0.001 0.001 0.001" />
            </geometry>
        </collision>
    </link>
    <link name="CubeSat1UMountingBracket_v1_1">
        <inertial>
            <origin rpy="0 0 0" xyz="-1.7057104253442694e-06 -0.03837245970328034 0.0033703317955060264" />
            <mass value="0.0447695629017108" />
            <inertia ixx="6.3e-05" ixy="0.0" ixz="0.0" iyy="6.1e-05" iyz="0.0" izz="0.000123" />
        </inertial>
        <visual>
            <origin rpy="0 0 0" xyz="-0.000963 -0.038945 -0.144403" />
            <geometry>
                <mesh filename="package://testing_rig_description/meshes/CubeSat1UMountingBracket_v1_1.stl" scale="0.001 0.001 0.001" />
            </geometry>
            <material name="black" />
        </visual>
        <collision>
            <origin rpy="0 0 0" xyz="-0.000963 -0.038945 -0.144403" />
            <geometry>
                <mesh filename="package://testing_rig_description/meshes/CubeSat1UMountingBracket_v1_1.stl" scale="0.001 0.001 0.001" />
            </geometry>
        </collision>
    </link>
    <link name="1U_Cubesat_Rib_2_v1_1">
        <inertial>
            <origin rpy="0 0 0" xyz="-0.0005284260177583697 -0.024739695415205976 0.0048544779101448166" />
            <mass value="0.015886475366101913" />
            <inertia ixx="1.3e-05" ixy="-0.0" ixz="-0.0" iyy="0.0" iyz="0.0" izz="1.3e-05" />
        </inertial>
        <visual>
            <origin rpy="0 0 0" xyz="0.044837 -0.025316 -0.155975" />
            <geometry>
                <mesh filename="package://testing_rig_description/meshes/1U_Cubesat_Rib_2_v1_1.stl" scale="0.001 0.001 0.001" />
            </geometry>
            <material name="gold" />
        </visual>
        <collision>
            <origin rpy="0 0 0" xyz="0.044837 -0.025316 -0.155975" />
            <geometry>
                <mesh filename="package://testing_rig_description/meshes/1U_Cubesat_Rib_2_v1_1.stl" scale="0.001 0.001 0.001" />
            </geometry>
        </collision>
    </link>
    <link name="1U_Cubesat_Side_Frame_2_v1_1">
        <inertial>
            <origin rpy="0 0 0" xyz="0.049280897611112776 0.008784247488415081 0.04685979174242769" />
            <mass value="0.07550573244327077" />
            <inertia ixx="0.000129" ixy="-0.0" ixz="-5e-06" iyy="0.000267" iyz="-0.0" izz="0.000139" />
        </inertial>
        <visual>
            <origin rpy="0 0 0" xyz="0.047037 -0.038137 -0.160007" />
            <geometry>
                <mesh filename="package://testing_rig_description/meshes/1U_Cubesat_Side_Frame_2_v1_1.stl" scale="0.001 0.001 0.001" />
            </geometry>
            <material name="black" />
        </visual>
        <collision>
            <origin rpy="0 0 0" xyz="0.047037 -0.038137 -0.160007" />
            <geometry>
                <mesh filename="package://testing_rig_description/meshes/1U_Cubesat_Side_Frame_2_v1_1.stl" scale="0.001 0.001 0.001" />
            </geometry>
        </collision>
    </link>
    <link name="1U_Cubesat_Side_Frame_1_v1_1">
        <inertial>
            <origin rpy="0 0 0" xyz="0.04927361497301489 -0.008289485219094728 0.04691364874078996" />
            <mass value="0.07551919617430682" />
            <inertia ixx="0.000129" ixy="0.0" ixz="-5e-06" iyy="0.000267" iyz="-1e-06" izz="0.000139" />
        </inertial>
        <visual>
            <origin rpy="0 0 0" xyz="0.047037 0.036862 -0.160402" />
            <geometry>
                <mesh filename="package://testing_rig_description/meshes/1U_Cubesat_Side_Frame_1_v1_1.stl" scale="0.001 0.001 0.001" />
            </geometry>
            <material name="black" />
        </visual>
        <collision>
            <origin rpy="0 0 0" xyz="0.047037 0.036862 -0.160402" />
            <geometry>
                <mesh filename="package://testing_rig_description/meshes/1U_Cubesat_Side_Frame_1_v1_1.stl" scale="0.001 0.001 0.001" />
            </geometry>
        </collision>
    </link>
    <link name="1U_Cubesat_Rib_2_v1_2">
        <inertial>
            <origin rpy="0 0 0" xyz="0.001671573982241846 0.03756145814361564 -0.0008223751920644062" />
            <mass value="0.015886475366101913" />
            <inertia ixx="1.3e-05" ixy="0.0" ixz="0.0" iyy="0.0" iyz="0.0" izz="1.3e-05" />
        </inertial>
        <visual>
            <origin rpy="0 0 0" xyz="0.047037 0.036387 -0.250601" />
            <geometry>
                <mesh filename="package://testing_rig_description/meshes/1U_Cubesat_Rib_2_v1_2.stl" scale="0.001 0.001 0.001" />
            </geometry>
            <material name="gold" />
        </visual>
        <collision>
            <origin rpy="0 0 0" xyz="0.047037 0.036387 -0.250601" />
            <geometry>
                <mesh filename="package://testing_rig_description/meshes/1U_Cubesat_Rib_2_v1_2.stl" scale="0.001 0.001 0.001" />
            </geometry>
        </collision>
    </link>
    <link name="rod_v1_1">
        <inertial>
            <origin rpy="0 0 0" xyz="-4.967725427754144e-07 0.0002173462814715199 0.041349303116065494" />
            <mass value="0.00436828024479217" />
            <inertia ixx="2e-06" ixy="0.0" ixz="0.0" iyy="2e-06" iyz="-0.0" izz="0.0" />
        </inertial>
        <visual>
            <origin rpy="0 0 0" xyz="0.041937 -0.037462 -0.164611" />
            <geometry>
                <mesh filename="package://testing_rig_description/meshes/rod_v1_1.stl" scale="0.001 0.001 0.001" />
            </geometry>
            <material name="silver" />
        </visual>
        <collision>
            <origin rpy="0 0 0" xyz="0.041937 -0.037462 -0.164611" />
            <geometry>
                <mesh filename="package://testing_rig_description/meshes/rod_v1_1.stl" scale="0.001 0.001 0.001" />
            </geometry>
        </collision>
    </link>
    <link name="rod_v1__1__1">
        <inertial>
            <origin rpy="0 0 0" xyz="-4.967725427407199e-07 0.00021736761502647028 0.041349302501221125" />
            <mass value="0.00436828024479217" />
            <inertia ixx="2e-06" ixy="-0.0" ixz="0.0" iyy="2e-06" iyz="-0.0" izz="0.0" />
        </inertial>
        <visual>
            <origin rpy="0 0 0" xyz="0.041937 0.036237 -0.164999" />
            <geometry>
                <mesh filename="package://testing_rig_description/meshes/rod_v1__1__1.stl" scale="0.001 0.001 0.001" />
            </geometry>
            <material name="silver" />
        </visual>
        <collision>
            <origin rpy="0 0 0" xyz="0.041937 0.036237 -0.164999" />
            <geometry>
                <mesh filename="package://testing_rig_description/meshes/rod_v1__1__1.stl" scale="0.001 0.001 0.001" />
            </geometry>
        </collision>
    </link>
    <link name="Beacon_bottom_v1_1">
        <inertial>
            <origin rpy="0 0 0" xyz="0.04213774207612821 0.0369431841640967 -0.00011487800293769057" />
            <mass value="0.45077777593166424" />
            <inertia ixx="0.000486" ixy="-2e-06" ixz="3e-06" iyy="0.000507" iyz="5e-06" izz="0.000921" />
        </inertial>
        <visual>
            <origin rpy="0 0 0" xyz="0.041937 0.03602 -0.206348" />
            <geometry>
                <mesh filename="package://testing_rig_description/meshes/Beacon_bottom_v1_1.stl" scale="0.001 0.001 0.001" />
            </geometry>
            <material name="orange" />
        </visual>
        <collision>
            <origin rpy="0 0 0" xyz="0.041937 0.03602 -0.206348" />
            <geometry>
                <mesh filename="package://testing_rig_description/meshes/Beacon_bottom_v1_1.stl" scale="0.001 0.001 0.001" />
            </geometry>
        </collision>
    </link>
    <link name="Beacon_top_v1_1">
        <inertial>
            <origin rpy="0 0 0" xyz="-0.049345557593111565 -0.0012886524481072344 0.009731103409582942" />
            <mass value="0.23249807185543006" />
            <inertia ixx="0.000206" ixy="-4e-06" ixz="-1e-06" iyy="0.000267" iyz="1e-06" izz="0.000464" />
        </inertial>
        <visual>
            <origin rpy="0 0 0" xyz="-0.048873 -0.001445 -0.206151" />
            <geometry>
                <mesh filename="package://testing_rig_description/meshes/Beacon_top_v1_1.stl" scale="0.001 0.001 0.001" />
            </geometry>
            <material name="orange" />
        </visual>
        <collision>
            <origin rpy="0 0 0" xyz="-0.048873 -0.001445 -0.206151" />
            <geometry>
                <mesh filename="package://testing_rig_description/meshes/Beacon_top_v1_1.stl" scale="0.001 0.001 0.001" />
            </geometry>
        </collision>
    </link>
    <link name="1U_Cubesat_Rib_2_v1_3">
        <inertial>
            <origin rpy="0 0 0" xyz="-0.0016725675279397612 0.037431594379322385 -0.000821691504697214" />
            <mass value="0.015886475366101913" />
            <inertia ixx="1.3e-05" ixy="0.0" ixz="-0.0" iyy="0.0" iyz="0.0" izz="1.3e-05" />
        </inertial>
        <visual>
            <origin rpy="0 0 0" xyz="-0.048963 0.036387 -0.250601" />
            <geometry>
                <mesh filename="package://testing_rig_description/meshes/1U_Cubesat_Rib_2_v1_3.stl" scale="0.001 0.001 0.001" />
            </geometry>
            <material name="gold" />
        </visual>
        <collision>
            <origin rpy="0 0 0" xyz="-0.048963 0.036387 -0.250601" />
            <geometry>
                <mesh filename="package://testing_rig_description/meshes/1U_Cubesat_Rib_2_v1_3.stl" scale="0.001 0.001 0.001" />
            </geometry>
        </collision>
    </link>
    <link name="1U_Cubesat_Rib_2_v1_4">
        <inertial>
            <origin rpy="0 0 0" xyz="-0.0016725675279401359 0.037568168349085364 0.00042679422277747125" />
            <mass value="0.015886475366101913" />
            <inertia ixx="1.3e-05" ixy="-0.0" ixz="0.0" iyy="0.0" iyz="0.0" izz="1.3e-05" />
        </inertial>
        <visual>
            <origin rpy="0 0 0" xyz="-0.048963 0.036862 -0.160402" />
            <geometry>
                <mesh filename="package://testing_rig_description/meshes/1U_Cubesat_Rib_2_v1_4.stl" scale="0.001 0.001 0.001" />
            </geometry>
            <material name="gold" />
        </visual>
        <collision>
            <origin rpy="0 0 0" xyz="-0.048963 0.036862 -0.160402" />
            <geometry>
                <mesh filename="package://testing_rig_description/meshes/1U_Cubesat_Rib_2_v1_4.stl" scale="0.001 0.001 0.001" />
            </geometry>
        </collision>
    </link>
    <link name="rod_v1__1__2">
        <inertial>
            <origin rpy="0 0 0" xyz="-4.967725424145919e-07 0.00021736622922667592 0.04134977604343909" />
            <mass value="0.00436828024479217" />
            <inertia ixx="2e-06" ixy="0.0" ixz="0.0" iyy="2e-06" iyz="-0.0" izz="0.0" />
        </inertial>
        <visual>
            <origin rpy="0 0 0" xyz="-0.043863 0.036137 -0.164998" />
            <geometry>
                <mesh filename="package://testing_rig_description/meshes/rod_v1__1__2.stl" scale="0.001 0.001 0.001" />
            </geometry>
            <material name="silver" />
        </visual>
        <collision>
            <origin rpy="0 0 0" xyz="-0.043863 0.036137 -0.164998" />
            <geometry>
                <mesh filename="package://testing_rig_description/meshes/rod_v1__1__2.stl" scale="0.001 0.001 0.001" />
            </geometry>
        </collision>
    </link>
    <link name="rod_v1__1__3">
        <inertial>
            <origin rpy="0 0 0" xyz="-4.967725447252436e-07 0.00021734489567198922 0.04134977665828374" />
            <mass value="0.00436828024479217" />
            <inertia ixx="2e-06" ixy="0.0" ixz="0.0" iyy="2e-06" iyz="-0.0" izz="0.0" />
        </inertial>
        <visual>
            <origin rpy="0 0 0" xyz="-0.043863 -0.037562 -0.16461" />
            <geometry>
                <mesh filename="package://testing_rig_description/meshes/rod_v1__1__3.stl" scale="0.001 0.001 0.001" />
            </geometry>
            <material name="silver" />
        </visual>
        <collision>
            <origin rpy="0 0 0" xyz="-0.043863 -0.037562 -0.16461" />
            <geometry>
                <mesh filename="package://testing_rig_description/meshes/rod_v1__1__3.stl" scale="0.001 0.001 0.001" />
            </geometry>
        </collision>
    </link>
    <link name="Bracket-Ring-Mount_v1_2">
        <inertial>
            <origin rpy="0 0 0" xyz="-4.971992271569263e-07 -6.1631787202295896e-06 -0.011005378596219445" />
            <mass value="0.006460384548743213" />
            <inertia ixx="0.0" ixy="-0.0" ixz="-0.0" iyy="0.0" iyz="0.0" izz="0.0" />
        </inertial>
        <visual>
            <origin rpy="0 0 0" xyz="-0.000963 0.037834 -0.144807" />
            <geometry>
                <mesh filename="package://testing_rig_description/meshes/Bracket-Ring-Mount_v1_2.stl" scale="0.001 0.001 0.001" />
            </geometry>
            <material name="black" />
        </visual>
        <collision>
            <origin rpy="0 0 0" xyz="-0.000963 0.037834 -0.144807" />
            <geometry>
                <mesh filename="package://testing_rig_description/meshes/Bracket-Ring-Mount_v1_2.stl" scale="0.001 0.001 0.001" />
            </geometry>
        </collision>
    </link>
    <link name="CubeSat1UMountingBracket_v1_2">
        <inertial>
            <origin rpy="0 0 0" xyz="-0.04579928783527349 0.024743298589283345 0.008201770521627572" />
            <mass value="0.0447695629017108" />
            <inertia ixx="6.3e-05" ixy="-0.0" ixz="0.0" iyy="6.1e-05" iyz="0.0" izz="0.000123" />
        </inertial>
        <visual>
            <origin rpy="0 0 0" xyz="-0.046763 0.023565 -0.254633" />
            <geometry>
                <mesh filename="package://testing_rig_description/meshes/CubeSat1UMountingBracket_v1_2.stl" scale="0.001 0.001 0.001" />
            </geometry>
            <material name="black" />
        </visual>
        <collision>
            <origin rpy="0 0 0" xyz="-0.046763 0.023565 -0.254633" />
            <geometry>
                <mesh filename="package://testing_rig_description/meshes/CubeSat1UMountingBracket_v1_2.stl" scale="0.001 0.001 0.001" />
            </geometry>
        </collision>
    </link>
    <link name="Bracket-Ring-Mount_v1_3">
        <inertial>
            <origin rpy="0 0 0" xyz="-4.963464709318091e-07 0.0001098326644411382 0.011005154168012787" />
            <mass value="0.006460384548743213" />
            <inertia ixx="0.0" ixy="0.0" ixz="-0.0" iyy="0.0" iyz="-0.0" izz="0.0" />
        </inertial>
        <visual>
            <origin rpy="0 0 0" xyz="-0.000963 0.037195 -0.266205" />
            <geometry>
                <mesh filename="package://testing_rig_description/meshes/Bracket-Ring-Mount_v1_3.stl" scale="0.001 0.001 0.001" />
            </geometry>
            <material name="black" />
        </visual>
        <collision>
            <origin rpy="0 0 0" xyz="-0.000963 0.037195 -0.266205" />
            <geometry>
                <mesh filename="package://testing_rig_description/meshes/Bracket-Ring-Mount_v1_3.stl" scale="0.001 0.001 0.001" />
            </geometry>
        </collision>
    </link>
    <link name="Bracket-Ring-Mount_v1_4">
        <inertial>
            <origin rpy="0 0 0" xyz="-4.971992296515671e-07 6.925907127648678e-06 0.011005481314296184" />
            <mass value="0.006460384548743213" />
            <inertia ixx="0.0" ixy="0.0" ixz="0.0" iyy="0.0" iyz="0.0" izz="0.0" />
        </inertial>
        <visual>
            <origin rpy="0 0 0" xyz="-0.000963 -0.039584 -0.265801" />
            <geometry>
                <mesh filename="package://testing_rig_description/meshes/Bracket-Ring-Mount_v1_4.stl" scale="0.001 0.001 0.001" />
            </geometry>
            <material name="black" />
        </visual>
        <collision>
            <origin rpy="0 0 0" xyz="-0.000963 -0.039584 -0.265801" />
            <geometry>
                <mesh filename="package://testing_rig_description/meshes/Bracket-Ring-Mount_v1_4.stl" scale="0.001 0.001 0.001" />
            </geometry>
        </collision>
    </link>
    <joint name="Rigid 6" type="fixed">
        <origin rpy="0 0 0" xyz="0.069481 0.138118 0.008686" />
        <parent link="base_link" />
        <child link="tip_v1_1" />
    </joint>
    <joint name="Rigid 7" type="fixed">
        <origin rpy="0 0 0" xyz="-0.069481 0.138118 0.008686" />
        <parent link="base_link" />
        <child link="tip_v1_2_1" />
    </joint>
    <joint name="Rigid 8" type="fixed">
        <origin rpy="0 0 0" xyz="-0.069481 -0.138118 0.008686" />
        <parent link="base_link" />
        <child link="tip_v1_3_1" />
    </joint>
    <joint name="Rigid 9" type="fixed">
        <origin rpy="0 0 0" xyz="0.069481 -0.138118 0.008686" />
        <parent link="base_link" />
        <child link="tip_v1_4_1" />
    </joint>
    <joint name="Rigid 10" type="fixed">
        <origin rpy="0 0 0" xyz="0.00545 -0.007794 0.019499" />
        <parent link="base_link" />
        <child link="base_tip_v1_1" />
    </joint>
    <joint name="Rigid 11" type="fixed">
        <origin rpy="0 0 0" xyz="0.00095 0.03155 0.019499" />
        <parent link="base_link" />
        <child link="SupportRing_Copy_v1_1" />
    </joint>
    <joint name="Rigid 12" type="fixed">
        <origin rpy="0 0 0" xyz="-0.007987 -0.037149 0.369641" />
        <parent link="SupportRing_Copy_v1_1" />
        <child link="motor1_v1_1" />
    </joint>
    <joint name="Rigid 13" type="fixed">
        <origin rpy="0 0 0" xyz="0.0 -2.3e-05 -0.0045" />
        <parent link="motor1_v1_1" />
        <child link="motor2_v1_1" />
    </joint>
    <joint name="Rigid 14" type="fixed">
        <origin rpy="0 0 0" xyz="0.0 -7.9e-05 -0.015" />
        <parent link="motor2_v1_1" />
        <child link="motor3_v1_1" />
    </joint>
    <joint name="outer_ring" type="continuous">
        <origin rpy="0 0 0" xyz="0.008 0.007481 -0.003539" />
        <parent link="motor3_v1_1" />
        <child link="motor4_v1_1" />
        <axis xyz="-0.0 -0.005265 -0.999986" />
    </joint>
    <joint name="Rigid 16" type="fixed">
        <origin rpy="0 0 0" xyz="0.0 -1.5e-05 -0.0029" />
        <parent link="motor4_v1_1" />
        <child link="ThirdRingFinal_Copy_v2_1" />
    </joint>
    <joint name="Rigid 18" type="fixed">
        <origin rpy="0 0 0" xyz="0.0 -0.00165 -0.313421" />
        <parent link="ThirdRingFinal_Copy_v2_1" />
        <child link="outer_ring_ball_bearing_v1_1" />
    </joint>
    <joint name="Rigid 19" type="fixed">
        <origin rpy="0 0 0" xyz="0.007794 0.154067 -0.163313" />
        <parent link="ThirdRingFinal_Copy_v2_1" />
        <child link="outer_ring_tip_v1_1" />
    </joint>
    <joint name="Rigid 20" type="fixed">
        <origin rpy="0 0 0" xyz="-0.008 -0.152247 -0.149701" />
        <parent link="ThirdRingFinal_Copy_v2_1" />
        <child link="motor1_v1__1__1" />
    </joint>
    <joint name="Rigid 21" type="fixed">
        <origin rpy="0 0 0" xyz="0.0 0.0045 -2.3e-05" />
        <parent link="motor1_v1__1__1" />
        <child link="motor2_v1__1__1" />
    </joint>
    <joint name="Rigid 22" type="fixed">
        <origin rpy="0 0 0" xyz="0.0 0.015 -7.9e-05" />
        <parent link="motor2_v1__1__1" />
        <child link="motor3_v1__1__1" />
    </joint>
    <joint name="middle_ring" type="continuous">
        <origin rpy="0 0 0" xyz="0.008 0.003461 -0.007519" />
        <parent link="motor3_v1__1__1" />
        <child link="motor4_v1__1__1" />
        <axis xyz="0.0 0.999986 -0.005265" />
    </joint>
    <joint name="Rigid 24" type="fixed">
        <origin rpy="0 0 0" xyz="0.0 0.0029 -1.5e-05" />
        <parent link="motor4_v1__1__1" />
        <child link="SecondRingFinal_Copy_v2_1" />
    </joint>
    <joint name="Rigid 25" type="fixed">
        <origin rpy="0 0 0" xyz="0.0 0.248046 -0.001306" />
        <parent link="SecondRingFinal_Copy_v2_1" />
        <child link="outer_ring_ball_bearing_v1__1__1" />
    </joint>
    <joint name="Rigid 26" type="fixed">
        <origin rpy="0 0 0" xyz="-0.008 0.118622 0.117922" />
        <parent link="SecondRingFinal_Copy_v2_1" />
        <child link="motor1_v1__2__1" />
    </joint>
    <joint name="Rigid 27" type="fixed">
        <origin rpy="0 0 0" xyz="0.0 -2.4e-05 -0.0045" />
        <parent link="motor1_v1__2__1" />
        <child link="motor2_v1__2__1" />
    </joint>
    <joint name="Rigid 28" type="fixed">
        <origin rpy="0 0 0" xyz="0.0 -7.9e-05 -0.015" />
        <parent link="motor2_v1__2__1" />
        <child link="motor3_v1__2__1" />
    </joint>
    <joint name="inner_ring" type="continuous">
        <origin rpy="0 0 0" xyz="0.008 0.007482 -0.003539" />
        <parent link="motor3_v1__2__1" />
        <child link="motor4_v1__2__1" />
        <axis xyz="0.0 -0.005265 -0.999986" />
    </joint>
    <joint name="Rigid 30" type="fixed">
        <origin rpy="0 0 0" xyz="0.0 -1.5e-05 -0.0029" />
        <parent link="motor4_v1__2__1" />
        <child link="FirstRingFinal_Copy_v2_1" />
    </joint>
    <joint name="Rigid 31" type="fixed">
        <origin rpy="0 0 0" xyz="0.0 -0.000959 -0.182049" />
        <parent link="FirstRingFinal_Copy_v2_1" />
        <child link="inner_ring_ball_bearing_v1_1" />
    </joint>
    <joint name="Rigid 32" type="fixed">
        <origin rpy="0 0 0" xyz="0.015962 -0.001526 -0.210482" />
        <parent link="FirstRingFinal_Copy_v2_1" />
        <child link="inner_ring_pin_v1_1" />
    </joint>
    <joint name="Rigid 35" type="fixed">
        <origin rpy="0 0 0" xyz="0.007 0.037715 -0.171058" />
        <parent link="FirstRingFinal_Copy_v2_1" />
        <child link="Bracket-Ring-Mount_v1_1" />
    </joint>
    <joint name="Rigid 51" type="fixed">
        <origin rpy="0 0 0" xyz="-0.007 -0.000135 0.017614" />
        <parent link="Bracket-Ring-Mount_v1_1" />
        <child link="CubeSat1UMountingBracket_v1_1" />
    </joint>
    <joint name="Rigid 52" type="fixed">
        <origin rpy="0 0 0" xyz="-0.0458 -0.013629 0.011572" />
        <parent link="CubeSat1UMountingBracket_v1_1" />
        <child link="1U_Cubesat_Rib_2_v1_1" />
    </joint>
    <joint name="Rigid 53" type="fixed">
        <origin rpy="0 0 0" xyz="-0.0022 0.012821 0.004032" />
        <parent link="1U_Cubesat_Rib_2_v1_1" />
        <child link="1U_Cubesat_Side_Frame_2_v1_1" />
    </joint>
    <joint name="Rigid 54" type="fixed">
        <origin rpy="0 0 0" xyz="-0.0022 -0.062178 0.004427" />
        <parent link="1U_Cubesat_Rib_2_v1_1" />
        <child link="1U_Cubesat_Side_Frame_1_v1_1" />
    </joint>
    <joint name="Rigid 56" type="fixed">
        <origin rpy="0 0 0" xyz="0.0 0.000475 0.090199" />
        <parent link="1U_Cubesat_Side_Frame_1_v1_1" />
        <child link="1U_Cubesat_Rib_2_v1_2" />
    </joint>
    <joint name="Rigid 57" type="fixed">
        <origin rpy="0 0 0" xyz="0.0029 0.012146 0.008636" />
        <parent link="1U_Cubesat_Rib_2_v1_1" />
        <child link="rod_v1_1" />
    </joint>
    <joint name="Rigid 58" type="fixed">
        <origin rpy="0 0 0" xyz="0.0029 -0.061553 0.009024" />
        <parent link="1U_Cubesat_Rib_2_v1_1" />
        <child link="rod_v1__1__1" />
    </joint>
    <joint name="Beacon" type="fixed">
        <origin rpy="0 0 0" xyz="0.0 0.000217 0.041349" />
        <parent link="rod_v1__1__1" />
        <child link="Beacon_bottom_v1_1" />
    </joint>
    <joint name="Rigid 60" type="fixed">
        <origin rpy="0 0 0" xyz="0.09081 0.037465 -0.000197" />
        <parent link="Beacon_bottom_v1_1" />
        <child link="Beacon_top_v1_1" />
    </joint>
    <joint name="Rigid 61" type="fixed">
        <origin rpy="0 0 0" xyz="0.096 0.000475 0.090199" />
        <parent link="1U_Cubesat_Side_Frame_1_v1_1" />
        <child link="1U_Cubesat_Rib_2_v1_3" />
    </joint>
    <joint name="Rigid 62" type="fixed">
        <origin rpy="0 0 0" xyz="0.096 0.0 0.0" />
        <parent link="1U_Cubesat_Side_Frame_1_v1_1" />
        <child link="1U_Cubesat_Rib_2_v1_4" />
    </joint>
    <joint name="Rigid 63" type="fixed">
        <origin rpy="0 0 0" xyz="-0.0051 0.000725 0.004596" />
        <parent link="1U_Cubesat_Rib_2_v1_4" />
        <child link="rod_v1__1__2" />
    </joint>
    <joint name="Rigid 64" type="fixed">
        <origin rpy="0 0 0" xyz="-0.0051 0.074424 0.004208" />
        <parent link="1U_Cubesat_Rib_2_v1_4" />
        <child link="rod_v1__1__3" />
    </joint>
    <joint name="Rigid 65" type="fixed">
        <origin rpy="0 0 0" xyz="0.0 -0.076779 0.000404" />
        <parent link="CubeSat1UMountingBracket_v1_1" />
        <child link="Bracket-Ring-Mount_v1_2" />
    </joint>
    <joint name="Rigid 66" type="fixed">
        <origin rpy="0 0 0" xyz="-0.0022 0.012822 0.004032" />
        <parent link="1U_Cubesat_Rib_2_v1_3" />
        <child link="CubeSat1UMountingBracket_v1_2" />
    </joint>
    <joint name="Rigid 67" type="fixed">
        <origin rpy="0 0 0" xyz="-0.0458 -0.01363 0.011572" />
        <parent link="CubeSat1UMountingBracket_v1_2" />
        <child link="Bracket-Ring-Mount_v1_3" />
    </joint>
    <joint name="Rigid 68" type="fixed">
        <origin rpy="0 0 0" xyz="-0.0458 0.063149 0.011168" />
        <parent link="CubeSat1UMountingBracket_v1_2" />
        <child link="Bracket-Ring-Mount_v1_4" />
    </joint>
</robot>
